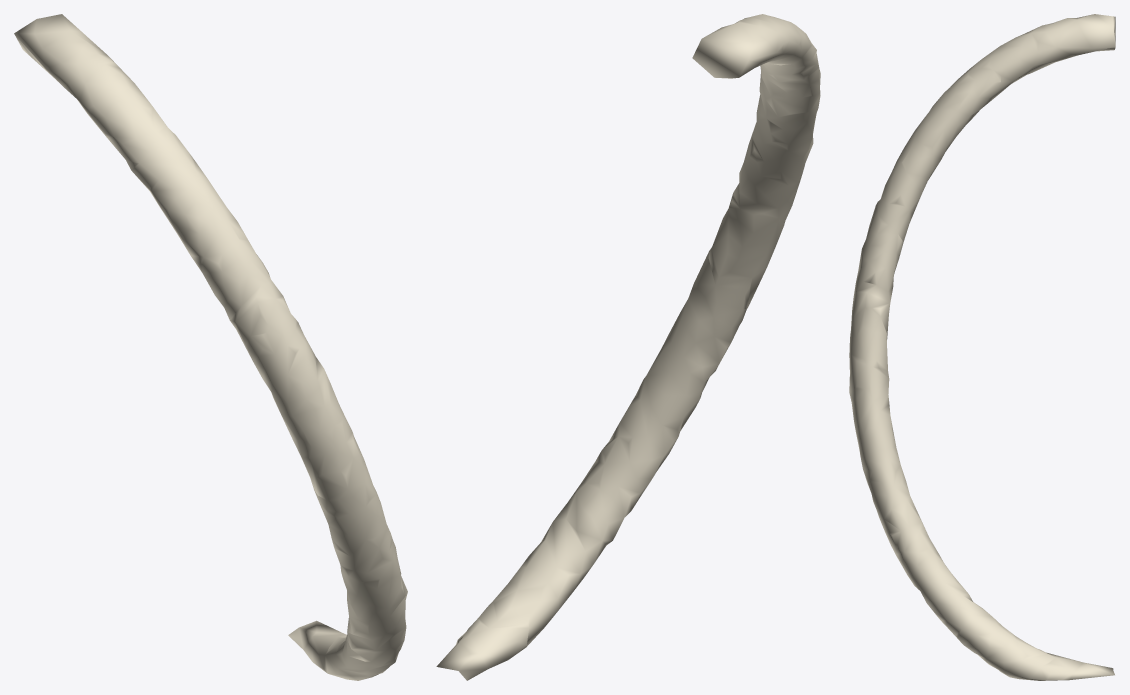
File: rib_1_l.glb
3 views of the same model, side by side, from view 1: azimuth 30°, elevation 25°; view 2: azimuth 150°, elevation 25°; view 3: azimuth 270°, elevation 25° (orthographic). The views are drawn at different scales.
Visible parts, largest first — view 1: geometry_0; view 2: geometry_0; view 3: geometry_0.
Part boxes in pixels (<box>): geometry_0: <box>14,14,407,680</box>; geometry_0: <box>436,14,820,680</box>; geometry_0: <box>849,14,1115,680</box>.
Size of the model in its own units: 0.2031 by 0.4195 by 0.1824.
